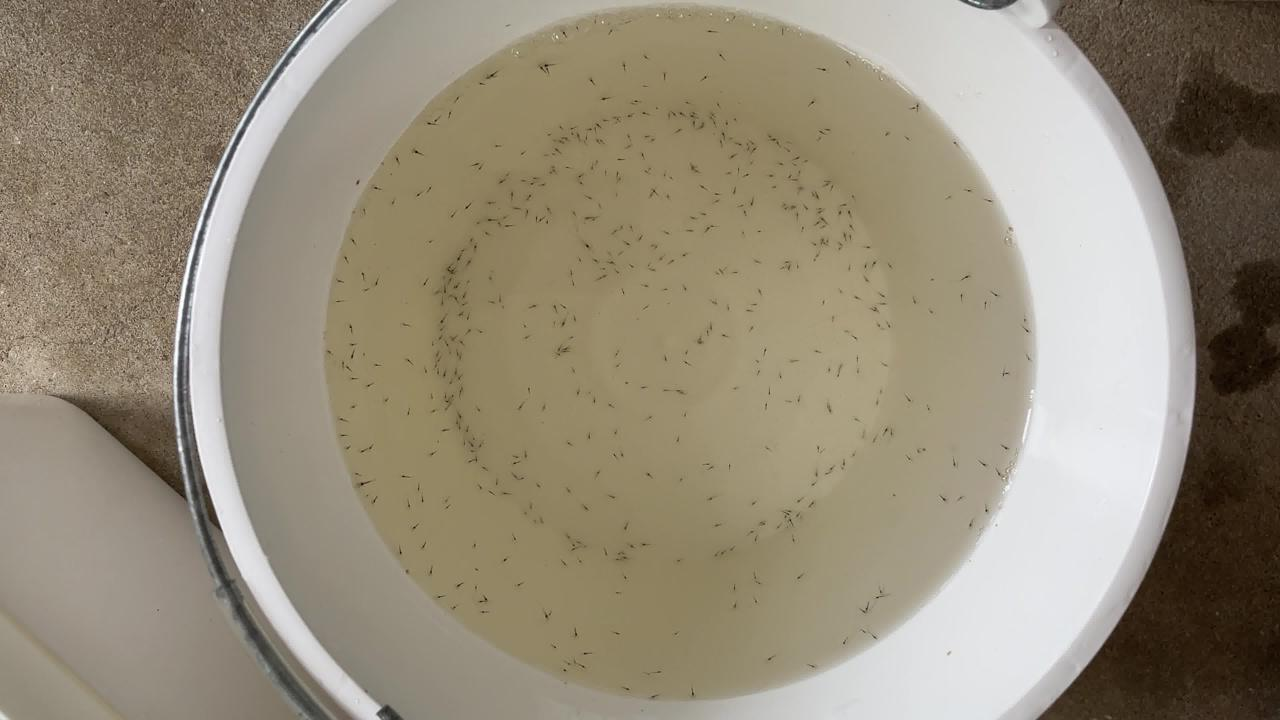shrimp: (584, 75, 596, 83), (619, 65, 631, 73), (641, 51, 653, 59), (637, 81, 649, 89), (596, 93, 608, 101), (634, 96, 646, 104), (623, 97, 635, 105), (625, 112, 637, 120), (637, 108, 649, 116), (649, 103, 661, 111), (663, 112, 675, 120), (665, 107, 677, 115), (673, 109, 685, 117), (680, 97, 692, 105), (688, 106, 700, 114), (686, 109, 698, 117), (686, 118, 698, 126), (672, 125, 684, 133), (693, 122, 705, 130), (703, 115, 715, 123), (704, 109, 716, 117), (709, 99, 721, 107), (706, 120, 718, 128), (720, 118, 732, 126), (728, 113, 740, 121), (717, 127, 729, 135), (714, 138, 726, 146), (723, 133, 735, 141), (730, 140, 742, 148), (728, 152, 740, 160), (739, 141, 751, 149), (747, 146, 759, 154), (745, 134, 757, 142), (762, 129, 774, 137), (766, 133, 778, 141), (768, 135, 780, 143), (781, 143, 793, 151), (776, 156, 788, 164), (766, 170, 778, 178), (767, 181, 779, 189), (785, 176, 797, 184), (781, 173, 793, 181), (791, 167, 803, 175), (785, 161, 797, 169), (786, 153, 798, 161), (798, 158, 810, 166), (745, 156, 757, 164), (732, 165, 744, 173), (723, 166, 735, 174), (739, 168, 751, 176), (727, 183, 739, 191), (732, 200, 744, 208), (735, 208, 747, 216), (744, 198, 756, 206), (687, 164, 699, 172), (691, 182, 703, 190), (708, 187, 720, 195), (709, 196, 721, 204), (698, 208, 710, 216), (687, 213, 699, 221), (684, 227, 696, 235), (698, 227, 710, 235), (703, 221, 715, 229), (734, 227, 746, 235), (754, 226, 766, 234), (774, 199, 786, 207), (777, 204, 789, 212), (782, 203, 794, 211), (792, 182, 804, 190), (803, 189, 815, 197), (808, 190, 820, 198), (817, 183, 829, 191), (817, 174, 829, 182), (826, 183, 838, 191), (799, 201, 811, 209), (790, 209, 802, 217), (794, 224, 806, 232), (810, 203, 822, 211), (813, 205, 825, 213), (815, 212, 827, 220), (807, 216, 819, 224), (814, 221, 826, 229), (835, 198, 847, 206), (832, 208, 844, 216), (846, 191, 858, 199), (843, 208, 855, 216), (845, 219, 857, 227), (845, 230, 857, 238), (838, 228, 850, 236), (834, 245, 846, 253), (834, 238, 846, 246), (805, 238, 817, 246), (814, 239, 826, 247), (814, 232, 826, 240), (819, 233, 831, 241), (813, 250, 825, 258), (749, 255, 761, 263), (778, 255, 790, 263), (772, 262, 784, 270), (780, 263, 792, 271), (792, 259, 804, 267), (657, 71, 669, 79), (697, 73, 709, 81), (714, 52, 726, 60), (703, 28, 715, 36), (617, 17, 629, 25), (604, 26, 616, 34), (557, 28, 569, 36), (571, 22, 583, 30), (587, 14, 599, 22), (662, 14, 674, 22), (685, 9, 697, 17), (775, 26, 787, 34), (816, 62, 828, 70), (805, 100, 817, 108), (813, 135, 825, 143), (812, 131, 824, 139), (817, 125, 829, 133), (842, 58, 854, 66), (910, 99, 922, 107), (904, 104, 916, 112), (881, 131, 893, 139), (899, 136, 911, 144), (948, 139, 960, 147), (606, 108, 618, 116), (608, 113, 620, 121), (598, 115, 610, 123), (594, 119, 606, 127), (590, 123, 602, 131), (581, 124, 593, 132), (568, 119, 580, 127), (554, 123, 566, 131), (541, 129, 553, 137), (538, 153, 550, 161), (545, 152, 557, 160), (549, 148, 561, 156), (554, 139, 566, 147), (554, 135, 566, 143), (573, 132, 585, 140), (590, 136, 602, 144), (594, 135, 606, 143), (622, 129, 634, 137), (640, 130, 652, 138), (645, 134, 657, 142), (624, 140, 636, 148), (638, 149, 650, 157), (614, 153, 626, 161), (636, 167, 648, 175), (641, 162, 653, 170), (653, 169, 665, 177), (665, 173, 677, 181), (648, 185, 660, 193), (645, 189, 657, 197), (663, 189, 675, 197), (610, 167, 622, 175), (610, 174, 622, 182), (591, 155, 603, 163), (587, 163, 599, 171), (576, 170, 588, 178), (572, 178, 584, 186), (600, 168, 612, 176), (582, 191, 594, 199), (568, 207, 580, 215), (593, 198, 605, 206), (579, 212, 591, 220), (587, 211, 599, 219), (582, 240, 594, 248), (574, 253, 586, 261), (565, 264, 577, 272), (563, 276, 575, 284), (582, 254, 594, 262), (517, 146, 529, 154), (493, 138, 505, 146), (464, 160, 476, 168), (476, 161, 488, 169), (492, 177, 504, 185), (502, 165, 514, 173), (516, 175, 528, 183), (530, 173, 542, 181), (544, 168, 556, 176), (545, 160, 557, 168), (560, 164, 572, 172), (537, 182, 549, 190), (524, 193, 536, 201), (506, 190, 518, 198), (509, 201, 521, 209), (519, 206, 531, 214), (529, 211, 541, 219), (533, 213, 545, 221), (540, 217, 552, 225), (544, 203, 556, 211), (506, 220, 518, 228), (500, 212, 512, 220), (485, 197, 497, 205), (465, 199, 477, 207), (445, 211, 457, 219), (468, 216, 480, 224), (479, 214, 491, 222), (492, 218, 504, 226), (481, 227, 493, 235), (465, 233, 477, 241), (473, 242, 485, 250), (456, 244, 468, 252), (452, 252, 464, 260), (459, 255, 471, 263), (440, 261, 452, 269), (449, 266, 461, 274), (426, 233, 438, 241), (417, 276, 429, 284), (445, 275, 457, 283), (439, 284, 451, 292), (431, 291, 443, 299), (451, 280, 463, 288), (465, 276, 477, 284), (459, 288, 471, 296), (449, 297, 461, 305), (434, 298, 446, 306), (459, 297, 471, 305), (454, 310, 466, 318), (463, 310, 475, 318), (433, 312, 445, 320), (435, 322, 447, 330), (436, 332, 448, 340), (429, 337, 441, 345), (440, 336, 452, 344), (448, 332, 460, 340), (457, 327, 469, 335), (472, 326, 484, 334), (458, 338, 470, 346), (425, 350, 437, 358), (432, 354, 444, 362), (419, 365, 431, 373), (404, 357, 416, 365), (443, 348, 455, 356), (451, 347, 463, 355), (457, 350, 469, 358), (441, 364, 453, 372), (451, 362, 463, 370), (454, 369, 466, 377), (443, 377, 455, 385), (403, 407, 415, 415), (422, 392, 434, 400), (424, 404, 436, 412), (439, 400, 451, 408), (438, 389, 450, 397), (444, 390, 456, 398), (454, 386, 466, 394), (454, 407, 466, 415), (468, 406, 480, 414), (452, 415, 464, 423), (453, 421, 465, 429), (442, 425, 454, 433), (487, 274, 499, 282), (486, 297, 498, 305), (494, 293, 506, 301), (494, 302, 506, 310), (526, 301, 538, 309), (513, 321, 525, 329), (517, 331, 529, 339), (547, 319, 559, 327), (548, 304, 560, 312), (554, 298, 566, 306), (556, 316, 568, 324), (568, 312, 580, 320), (590, 273, 602, 281), (593, 264, 605, 272), (588, 254, 600, 262), (604, 259, 616, 267), (607, 265, 619, 273), (614, 284, 626, 292), (607, 227, 619, 235), (612, 224, 624, 232), (623, 221, 635, 229), (619, 238, 631, 246), (611, 248, 623, 256), (633, 233, 645, 241), (625, 258, 637, 266), (644, 238, 656, 246), (648, 241, 660, 249), (660, 225, 672, 233), (653, 253, 665, 261), (643, 257, 655, 265), (645, 263, 657, 271), (666, 257, 678, 265), (675, 248, 687, 256), (641, 283, 653, 291), (640, 301, 652, 309), (656, 287, 668, 295), (677, 284, 689, 292), (707, 269, 719, 277), (714, 265, 726, 273), (721, 260, 733, 268), (728, 267, 740, 275), (703, 298, 715, 306), (721, 303, 733, 311), (740, 306, 752, 314), (747, 297, 759, 305), (751, 289, 763, 297), (706, 319, 718, 327), (701, 325, 713, 333), (694, 336, 706, 344), (716, 331, 728, 339), (743, 323, 755, 331), (757, 346, 769, 354), (752, 356, 764, 364), (751, 367, 763, 375), (730, 382, 742, 390), (679, 349, 691, 357), (679, 359, 691, 367), (656, 354, 668, 362), (610, 350, 622, 358), (608, 358, 620, 366), (617, 380, 629, 388), (634, 384, 646, 392), (662, 386, 674, 394), (668, 385, 680, 393), (673, 387, 685, 395), (678, 408, 690, 416), (643, 415, 655, 423), (671, 434, 683, 442), (563, 333, 575, 341), (552, 341, 564, 349), (548, 350, 560, 358), (556, 342, 568, 350), (557, 348, 569, 356), (567, 366, 579, 374), (572, 390, 584, 398), (589, 397, 601, 405), (603, 401, 615, 409), (520, 386, 532, 394), (513, 404, 525, 412), (535, 405, 547, 413), (560, 441, 572, 449), (581, 430, 593, 438), (608, 427, 620, 435), (618, 448, 630, 456), (607, 452, 619, 460), (593, 467, 605, 475), (560, 484, 572, 492), (575, 502, 587, 510), (602, 492, 614, 500), (640, 470, 652, 478), (520, 447, 532, 455), (505, 452, 517, 460), (508, 459, 520, 467), (509, 468, 521, 476), (513, 476, 525, 484), (528, 481, 540, 489), (461, 422, 473, 430), (453, 437, 465, 445), (462, 438, 474, 446), (466, 429, 478, 437), (474, 439, 486, 447), (464, 443, 476, 451), (461, 456, 473, 464), (469, 454, 481, 462), (477, 464, 489, 472), (473, 481, 485, 489), (485, 490, 497, 498), (487, 475, 499, 483), (497, 486, 509, 494), (521, 501, 533, 509), (516, 508, 528, 516), (523, 516, 535, 524), (532, 515, 544, 523), (505, 533, 517, 541), (495, 554, 507, 562), (516, 581, 528, 589), (558, 530, 570, 538), (571, 535, 583, 543), (563, 539, 575, 547), (563, 544, 575, 552), (569, 557, 581, 565), (554, 559, 566, 567), (610, 589, 622, 597), (617, 573, 629, 581), (600, 548, 612, 556), (608, 556, 620, 564), (620, 556, 632, 564), (612, 547, 624, 555), (626, 541, 638, 549), (616, 521, 628, 529), (637, 542, 649, 550), (674, 474, 686, 482), (699, 455, 711, 463), (702, 462, 714, 470), (719, 462, 731, 470), (704, 494, 716, 502), (709, 521, 721, 529), (669, 560, 681, 568), (706, 551, 718, 559), (712, 550, 724, 558), (723, 545, 735, 553), (726, 580, 738, 588), (727, 601, 739, 609), (747, 597, 759, 605), (753, 582, 765, 590), (748, 571, 760, 579), (749, 536, 761, 544), (746, 528, 758, 536), (747, 498, 759, 506), (756, 514, 768, 522), (757, 520, 769, 528), (772, 522, 784, 530), (786, 534, 798, 542), (784, 517, 796, 525), (777, 505, 789, 513), (784, 500, 796, 508), (777, 511, 789, 519), (789, 510, 801, 518), (798, 493, 810, 501), (802, 501, 814, 509), (760, 445, 772, 453), (759, 401, 771, 409), (763, 385, 775, 393), (773, 371, 785, 379), (787, 359, 799, 367), (817, 298, 829, 306), (836, 285, 848, 293), (846, 261, 858, 269), (858, 240, 870, 248), (861, 259, 873, 267), (868, 256, 880, 264), (884, 256, 896, 264), (861, 273, 873, 281), (853, 293, 865, 301), (831, 316, 843, 324), (814, 350, 826, 358), (794, 390, 806, 398), (783, 395, 795, 403), (823, 363, 835, 371), (834, 360, 846, 368), (832, 367, 844, 375), (823, 401, 835, 409), (853, 366, 865, 374), (849, 353, 861, 361), (849, 331, 861, 339), (840, 324, 852, 332), (861, 302, 873, 310), (868, 303, 880, 311), (875, 299, 887, 307), (874, 288, 886, 296), (871, 321, 883, 329), (882, 319, 894, 327), (879, 361, 891, 369), (873, 384, 885, 392), (872, 399, 884, 407), (851, 414, 863, 422), (857, 428, 869, 436), (865, 434, 877, 442), (878, 425, 890, 433), (885, 428, 897, 436), (901, 390, 913, 398), (811, 439, 823, 447), (816, 443, 828, 451), (808, 468, 820, 476), (805, 477, 817, 485), (818, 471, 830, 479), (824, 464, 836, 472), (833, 464, 845, 472), (834, 458, 846, 466), (845, 449, 857, 457), (903, 453, 915, 461), (913, 449, 925, 457), (918, 444, 930, 452), (947, 458, 959, 466), (937, 495, 949, 503), (954, 496, 966, 504), (963, 520, 975, 528), (980, 506, 992, 514), (977, 459, 989, 467), (998, 471, 1010, 479), (997, 443, 1009, 451), (920, 401, 932, 409), (997, 367, 1009, 375), (1022, 354, 1034, 362), (1018, 329, 1030, 337), (1018, 315, 1030, 323), (991, 291, 1003, 299), (980, 298, 992, 306), (955, 295, 967, 303), (923, 309, 935, 317), (912, 298, 924, 306), (920, 274, 932, 282), (959, 271, 971, 279), (943, 195, 955, 203), (959, 183, 971, 191), (982, 194, 994, 202), (543, 57, 555, 65), (543, 62, 555, 70), (537, 63, 549, 71), (485, 71, 497, 79), (472, 78, 484, 86), (451, 95, 463, 103), (444, 110, 456, 118), (433, 112, 445, 120), (421, 120, 433, 128), (410, 150, 422, 158), (394, 154, 406, 162), (372, 186, 384, 194), (390, 198, 402, 206), (406, 193, 418, 201), (420, 185, 432, 193), (358, 206, 370, 214), (347, 235, 359, 243), (340, 254, 352, 262), (333, 278, 345, 286), (333, 297, 345, 305), (356, 270, 368, 278), (356, 284, 368, 292), (369, 274, 381, 282), (399, 320, 411, 328), (345, 325, 357, 333), (345, 338, 357, 346), (349, 349, 361, 357), (324, 349, 336, 357), (331, 359, 343, 367), (341, 363, 353, 371), (368, 359, 380, 367), (347, 371, 359, 379), (363, 380, 375, 388), (379, 398, 391, 406), (346, 402, 358, 410), (335, 417, 347, 425), (334, 430, 346, 438), (338, 443, 350, 451), (356, 446, 368, 454), (366, 440, 378, 448), (348, 469, 360, 477), (356, 480, 368, 488), (370, 498, 382, 506), (396, 472, 408, 480), (425, 447, 437, 455), (398, 500, 410, 508), (412, 495, 424, 503), (413, 482, 425, 490), (437, 494, 449, 502), (438, 502, 450, 510), (409, 520, 421, 528), (389, 549, 401, 557), (416, 542, 428, 550), (425, 568, 437, 576), (431, 592, 443, 600), (445, 603, 457, 611), (450, 581, 462, 589), (465, 565, 477, 573), (469, 540, 481, 548), (469, 582, 481, 590), (476, 591, 488, 599), (473, 595, 485, 603), (479, 607, 491, 615), (536, 613, 548, 621), (542, 608, 554, 616), (568, 625, 580, 633), (542, 643, 554, 651), (555, 657, 567, 665), (557, 669, 569, 677), (567, 656, 579, 664), (573, 663, 585, 671), (578, 648, 590, 656), (604, 631, 616, 639), (667, 629, 679, 637), (793, 571, 805, 579), (890, 488, 902, 496), (873, 581, 885, 589), (876, 590, 888, 598), (862, 598, 874, 606), (855, 603, 867, 611), (857, 624, 869, 632), (838, 637, 850, 645), (868, 632, 880, 640), (805, 662, 817, 670), (765, 655, 777, 663), (652, 668, 664, 676), (640, 668, 652, 676), (623, 684, 635, 692), (645, 693, 657, 701), (688, 688, 700, 696), (399, 568, 411, 576)
